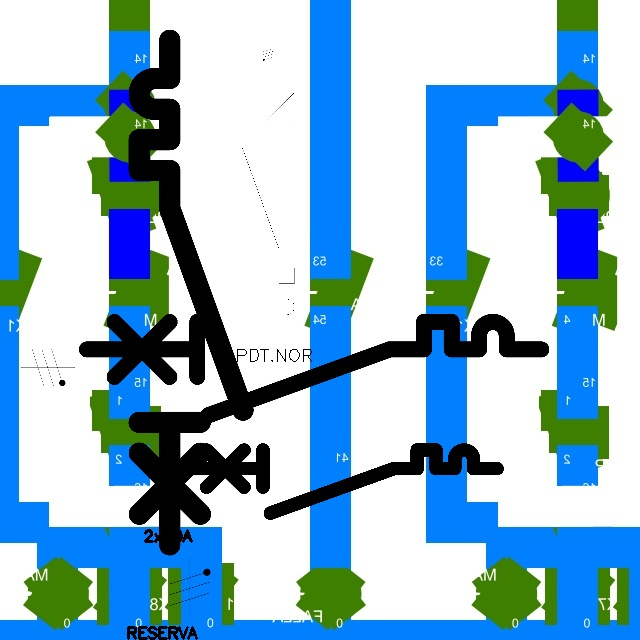interruptor_termomagnetico: (126, 27, 256, 558), (75, 310, 553, 427), (179, 442, 504, 521), (235, 70, 301, 340)
